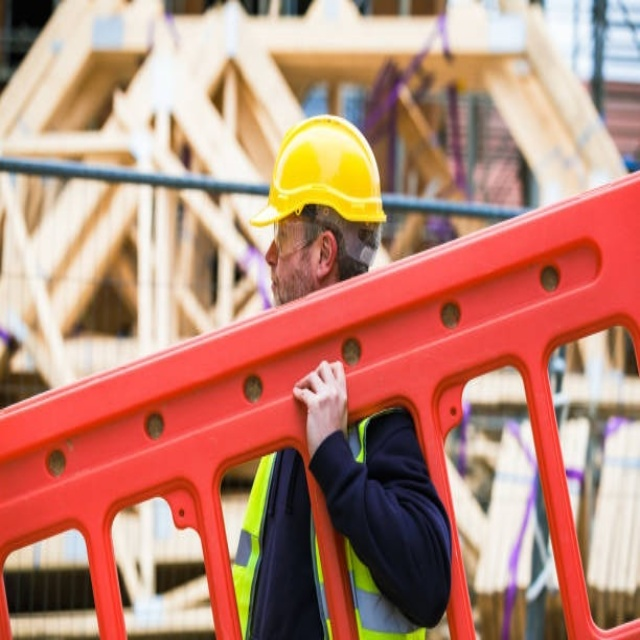Gafas: (273, 212, 332, 265)
Sin_guantes: (291, 357, 350, 452)
